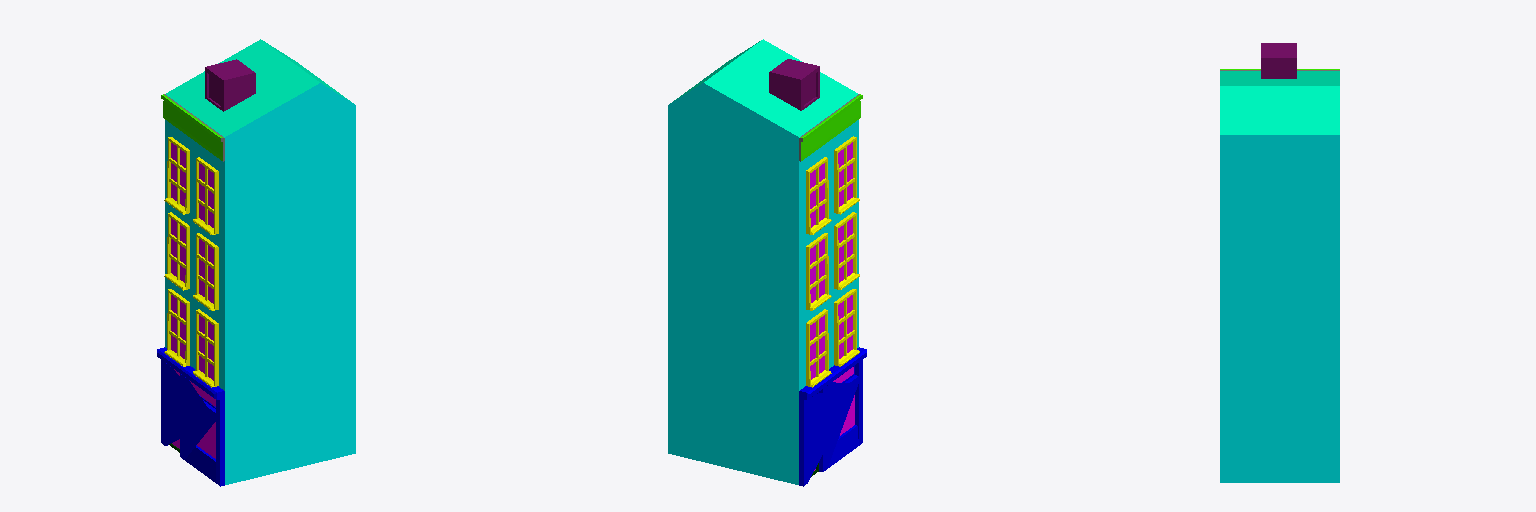
File: huis6_model.obj
The picture shows the model from 3 angles: view 1: azimuth 30°, elevation 25°; view 2: azimuth 150°, elevation 25°; view 3: azimuth 270°, elevation 25°; orthographic projection.
Parts seen in each view (by area): view 1: pCube29; view 2: pCube29; view 3: pCube29.
Boxes of the visible parts, box(x1,y1,x2,y2) form: pCube29: box(157, 39, 355, 486); pCube29: box(668, 39, 866, 486); pCube29: box(1220, 43, 1339, 482).
Size of the model in its own units: 8.42 by 22.01 by 6.16.